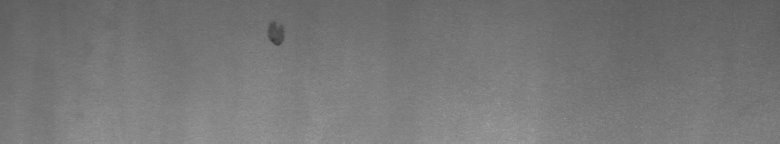fi: (263, 16, 289, 52)
